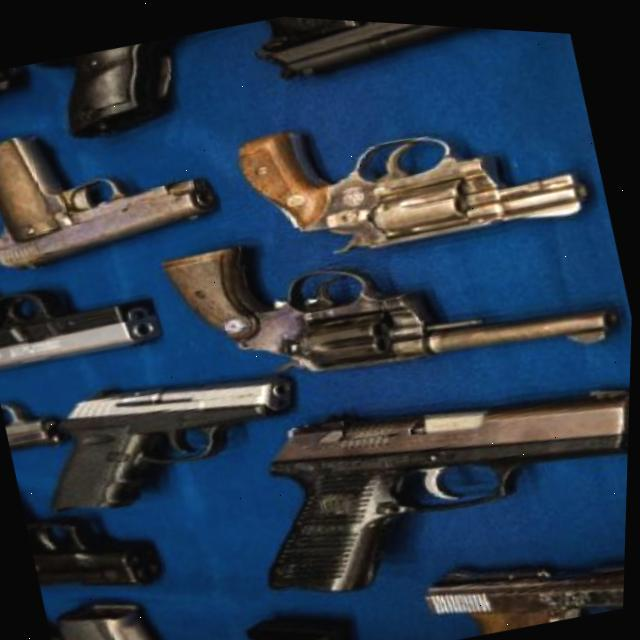gun: (150, 148, 628, 438), (230, 334, 632, 614), (228, 56, 595, 291), (16, 338, 318, 534), (0, 87, 231, 285), (0, 205, 169, 387), (418, 501, 628, 640), (237, 11, 526, 104), (15, 448, 170, 612), (0, 363, 78, 458), (0, 64, 34, 141)
